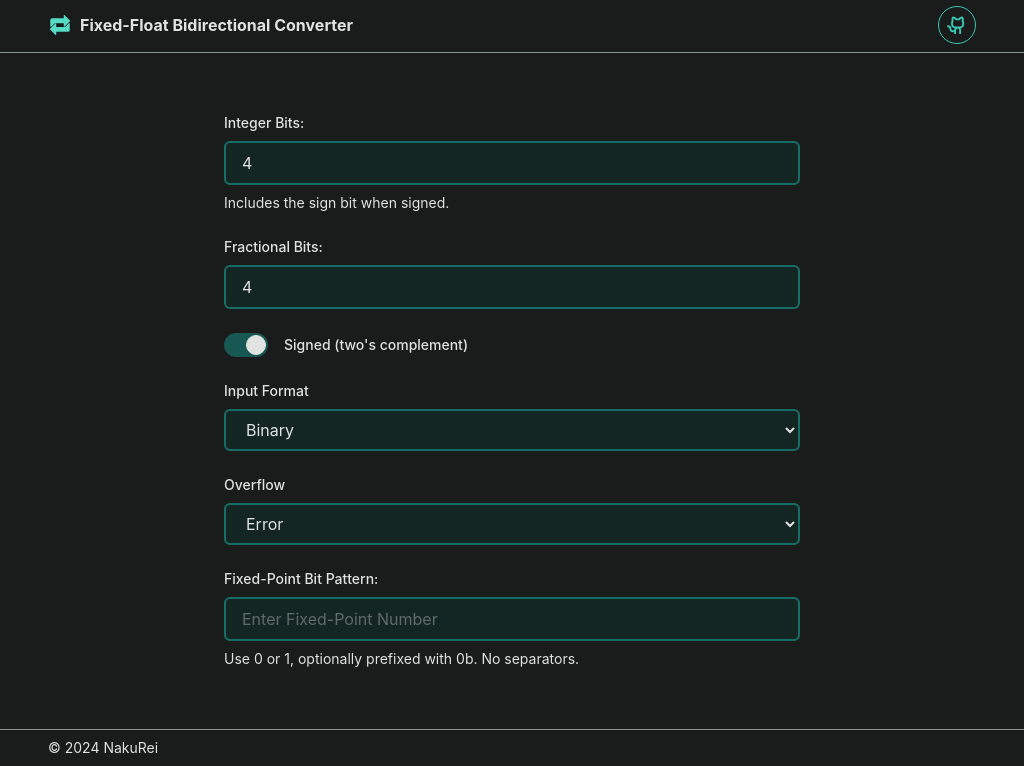
Test: Original and converted output values › preserves -0.000 entered as decimal
The width and height of the screenshot is (1024, 766).
Select "Decimal" in the dropdown labelled "Input Format" at (512, 430), box x1=224 y1=409 x2=800 y2=451
(page scrolled)
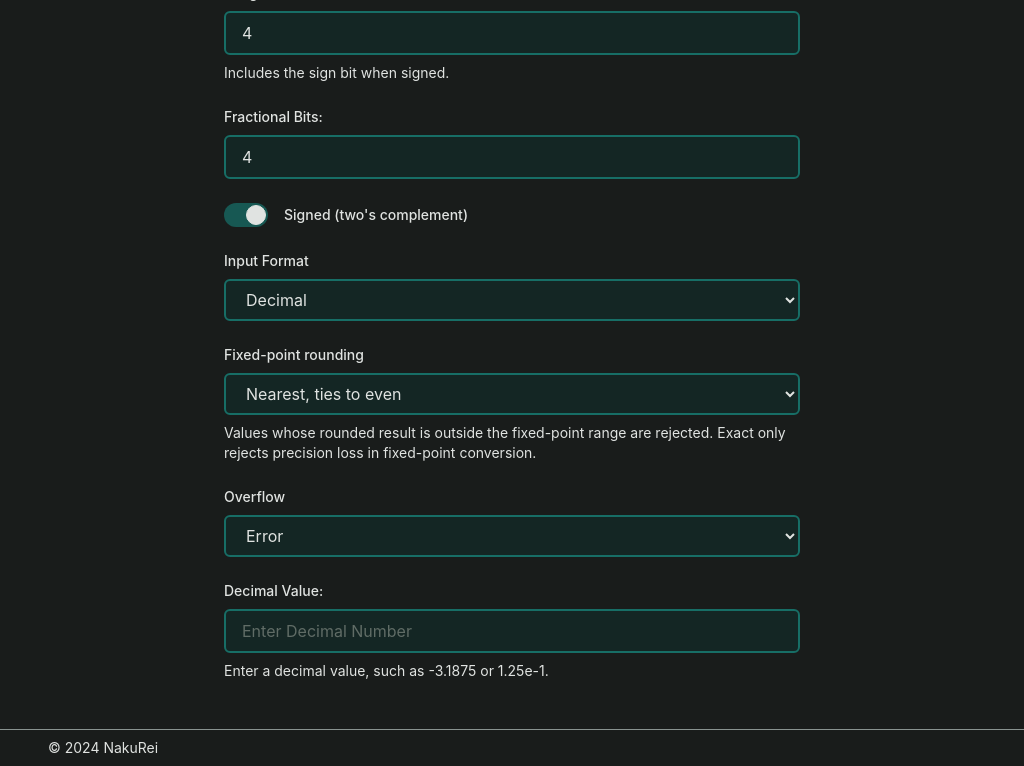
Type "-0.000" into the field labelled "Decimal Value:".
click(512, 631); type("-0.000")  # box x1=224 y1=609 x2=800 y2=653
(page scrolled)
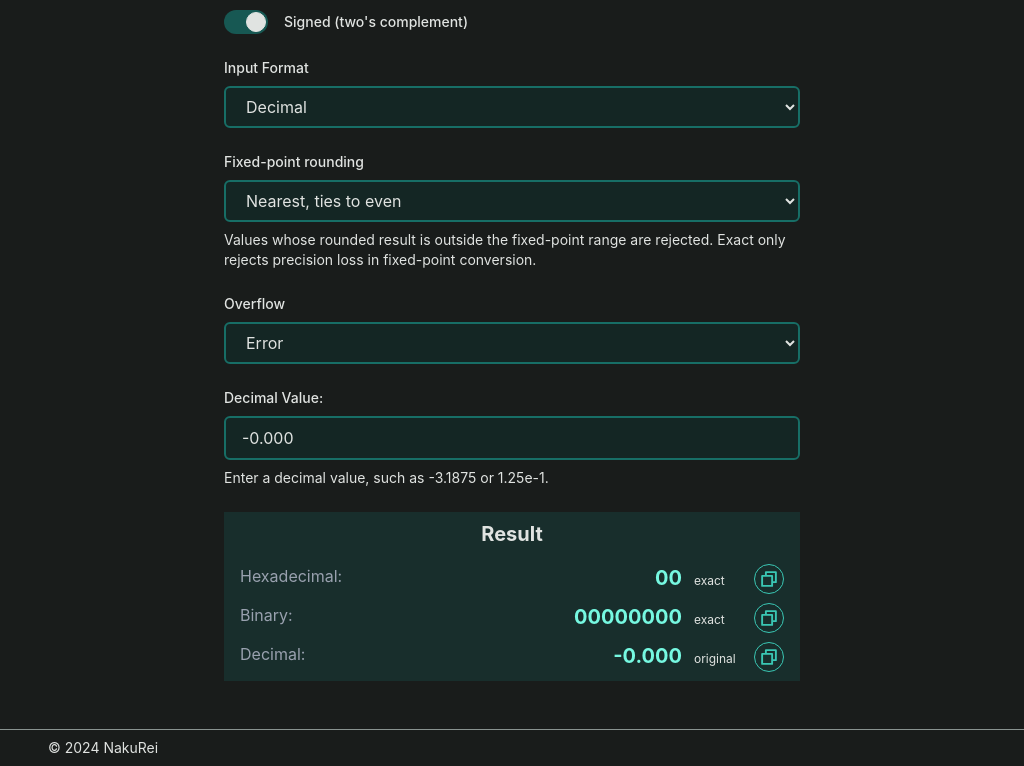
Now the text "00" is shown, box x1=655 y1=564 x2=682 y2=592
Now the text "exact" in the row of "Hexadecimal:" is shown, box x1=694 y1=573 x2=725 y2=588
Now the text "00000000" is shown, box x1=574 y1=603 x2=682 y2=631
